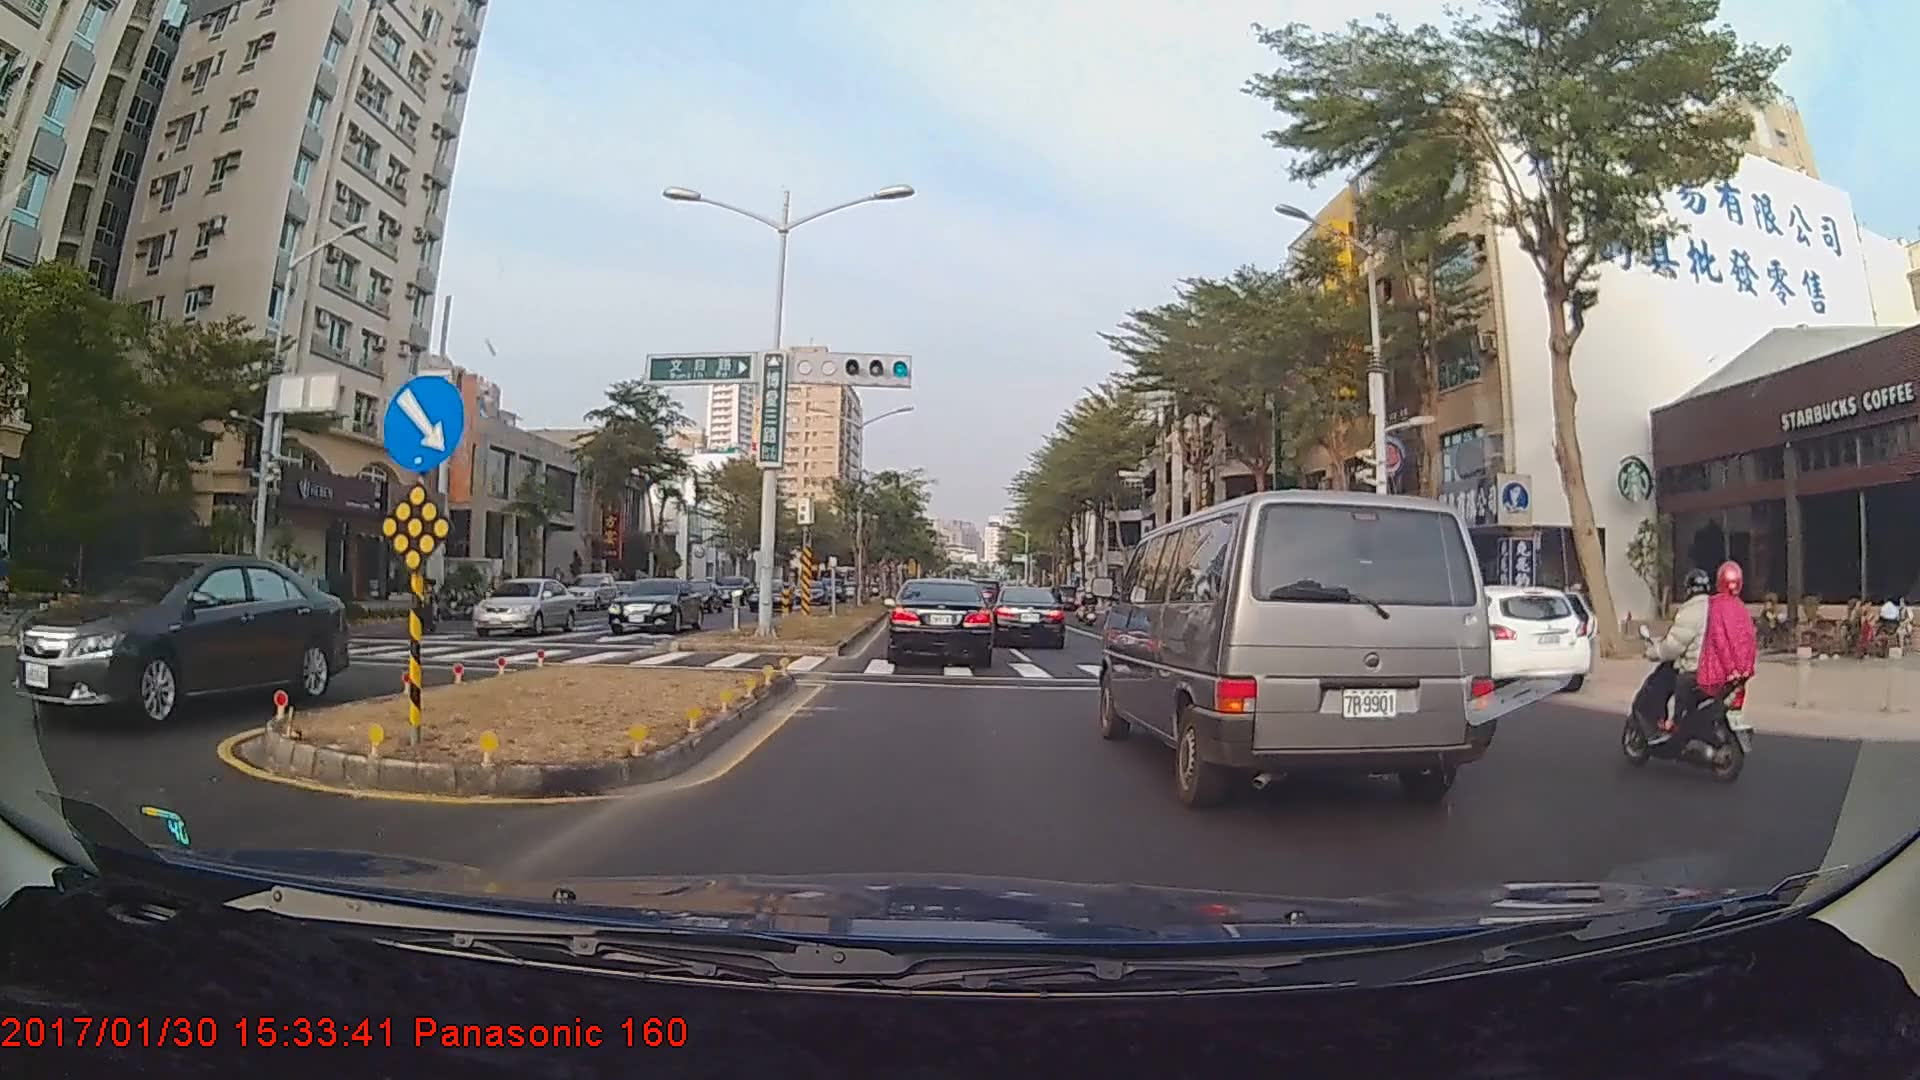rider: (1615, 555, 1765, 772)
vehicle: (1106, 480, 1493, 805), (11, 548, 350, 729), (1479, 583, 1582, 688), (884, 577, 995, 667), (470, 575, 577, 635), (606, 574, 704, 635), (992, 585, 1066, 649), (575, 571, 618, 611)
